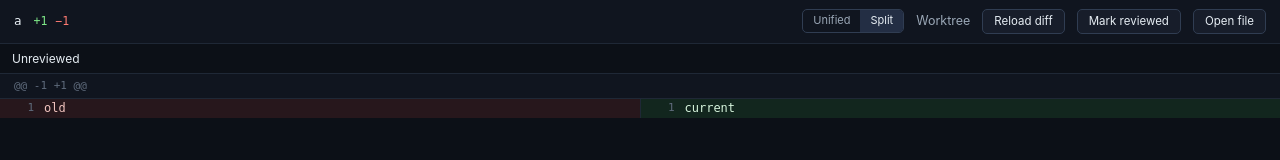
Test case: does not mark an old selection after an interrupted confirmation
Click the button "Mark reviewed" at (1129, 21), box [1077,9,1181,34]
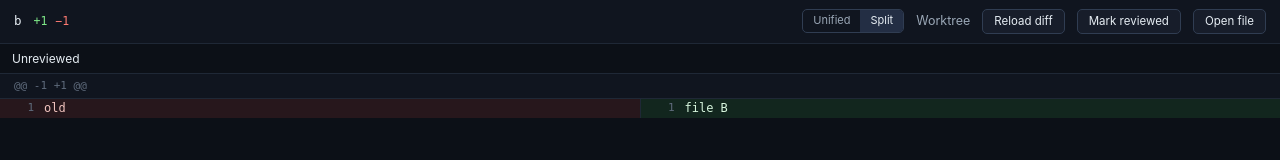
Check: the text "file B" is shown, box [684,101,728,115]
